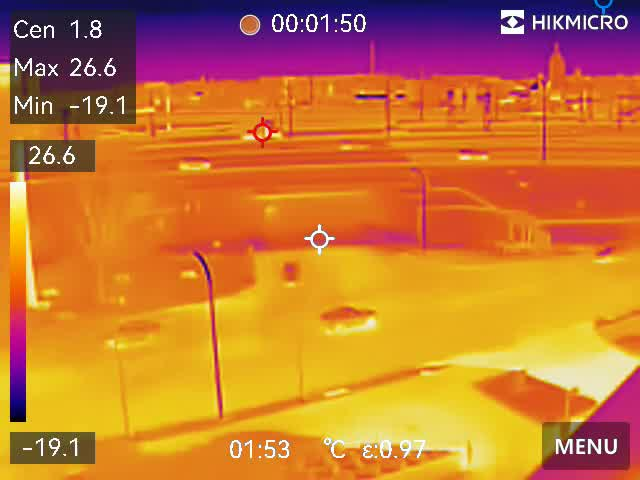vehicle: (100, 317, 165, 347), (321, 305, 379, 333), (236, 125, 284, 147), (277, 257, 302, 291), (173, 155, 216, 174), (452, 147, 493, 163)
